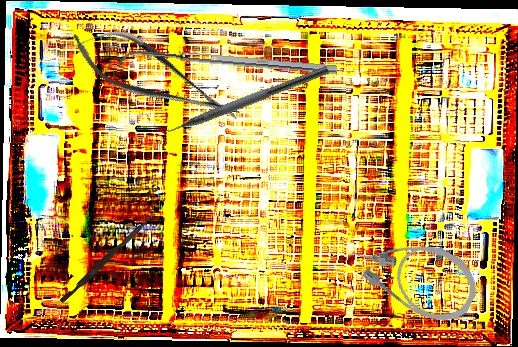Cannula: (341, 212, 488, 334)
Chopper: (152, 53, 330, 143)
Micro Scissor: (61, 10, 250, 144)
Pusher: (59, 212, 153, 306)
Spatula Surgical: (117, 46, 338, 83)
